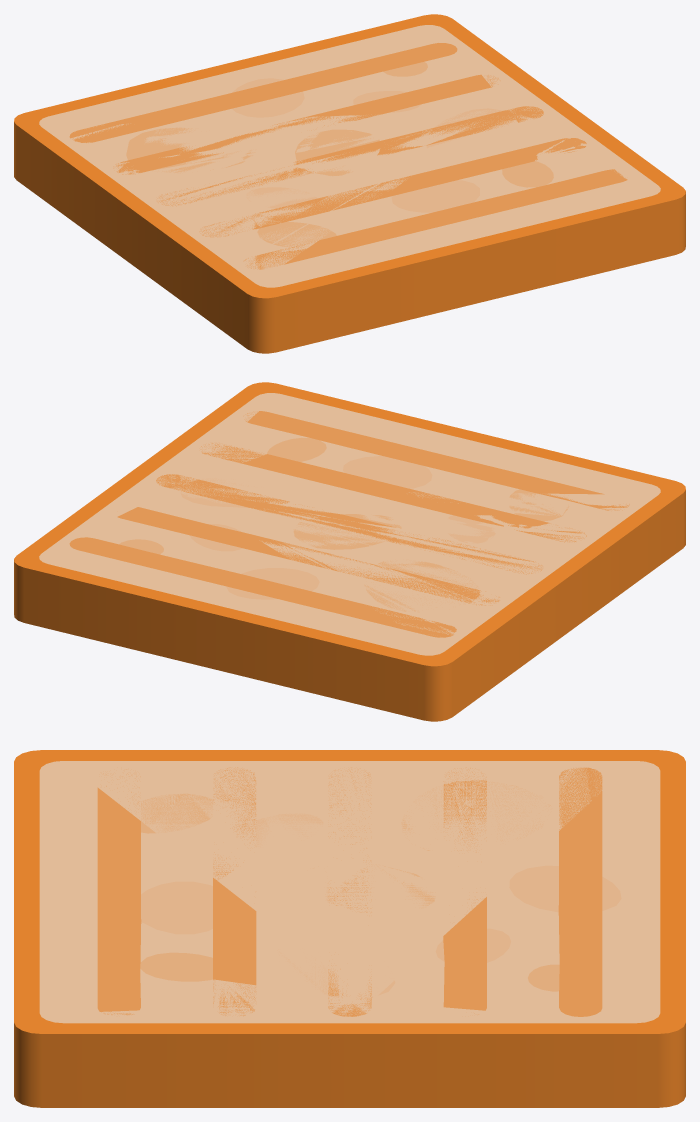
Rendered from Bread I.fbx.
The picture shows the model from 3 angles, top to bottom: view 1: azimuth 30°, elevation 25°; view 2: azimuth 150°, elevation 25°; view 3: azimuth 270°, elevation 25°; orthographic projection. The views are drawn at different scales.
Parts seen in each view (by area): view 1: Bread I; view 2: Bread I; view 3: Bread I.
Boxes of the visible parts, x1,y1,x2,y2 form: Bread I: (14,14,685,353); Bread I: (14,382,685,721); Bread I: (14,750,685,1107).
Size of the model in its own units: 0.6502 by 0.0789 by 0.6502.
